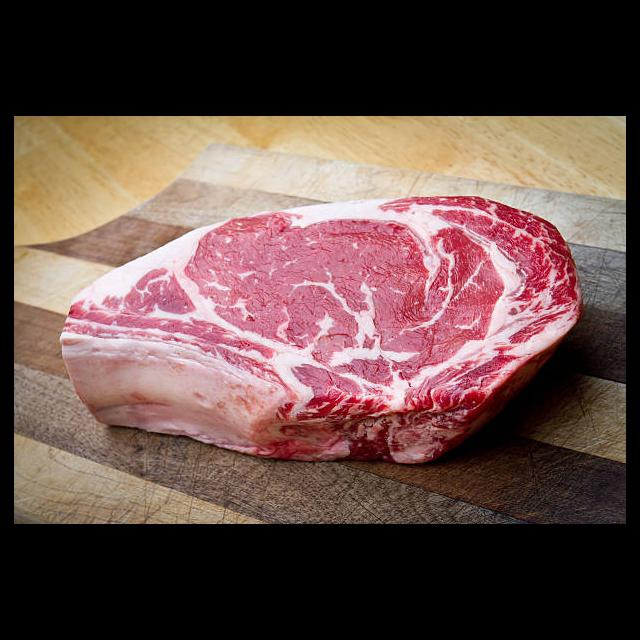beef: (59, 193, 583, 467)
